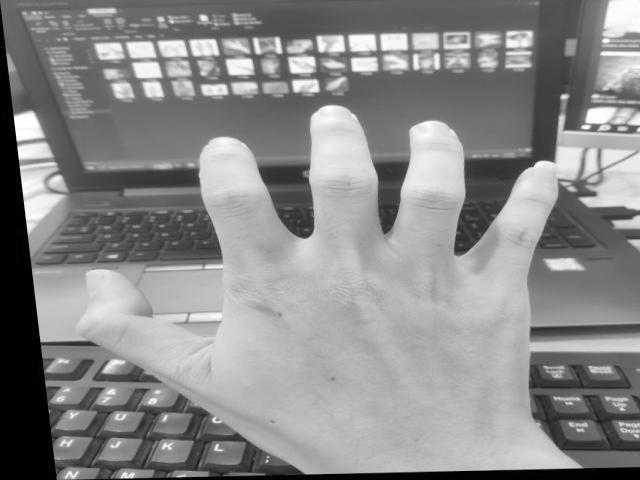not-gloved: (77, 101, 560, 458)
